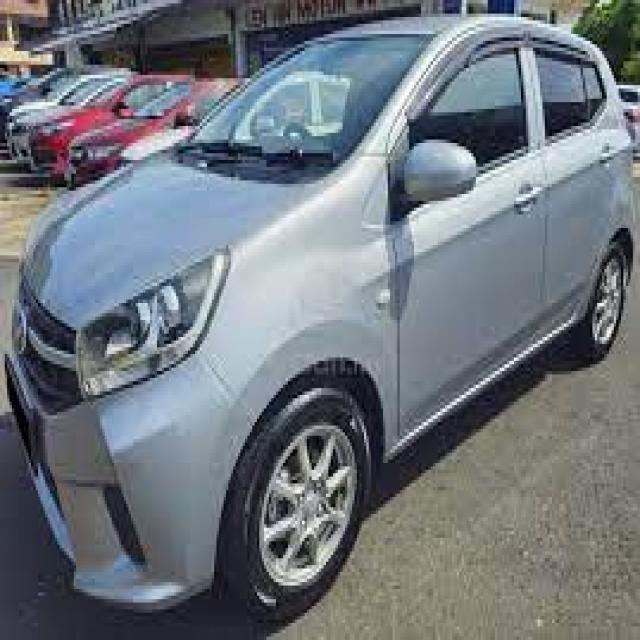PeroduaAxia: (2, 7, 636, 630)
